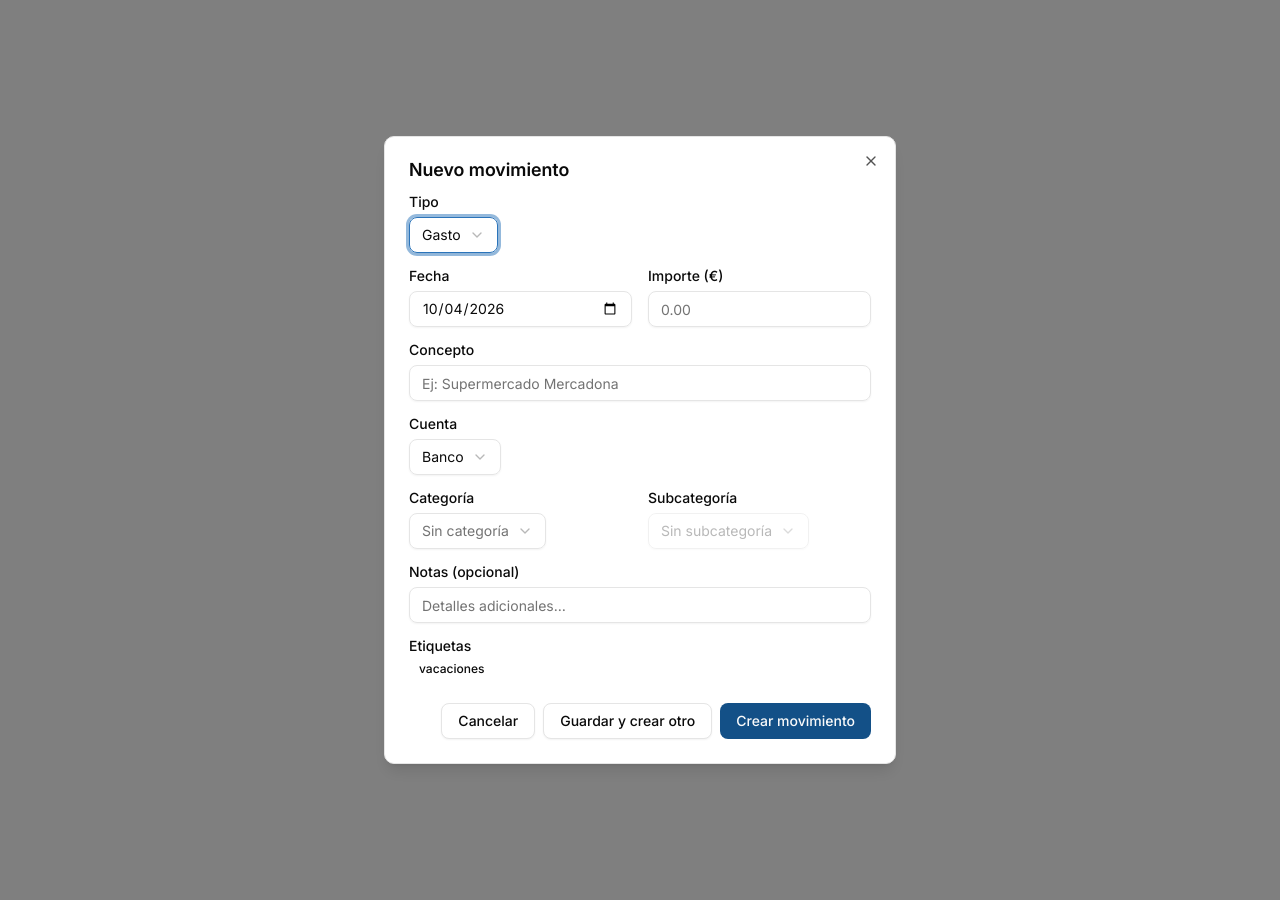
TransactionForm — transferencias › pide cuenta destino distinta al origen
This screenshot has width=1280, height=900.
Step 1. Click the dropdown named "Tipo" → {"x": 453, "y": 235}, box top-left (409, 217), bottom-right (498, 253)
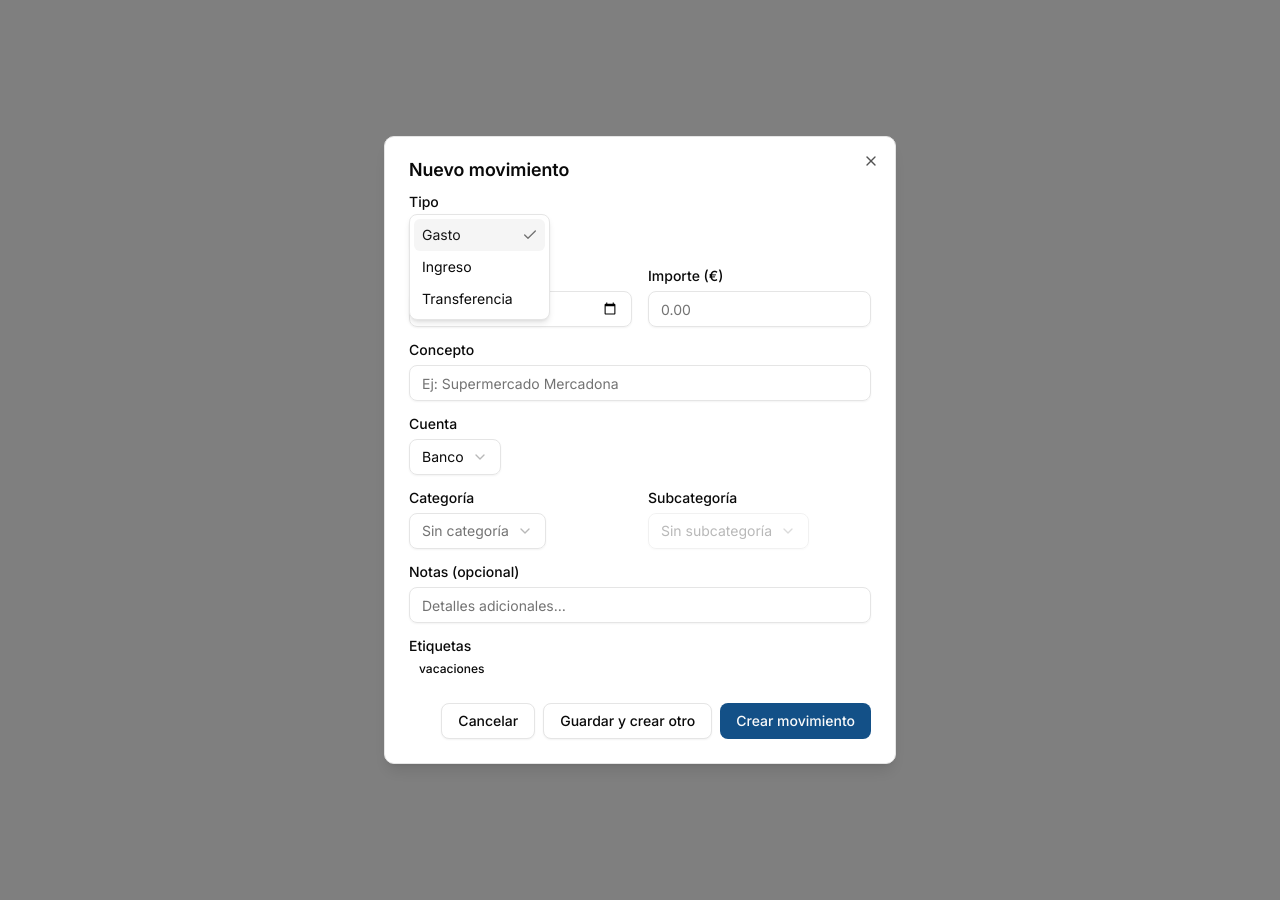
Step 2. Click the option "Transferencia" → {"x": 467, "y": 298}, box top-left (422, 290), bottom-right (513, 307)
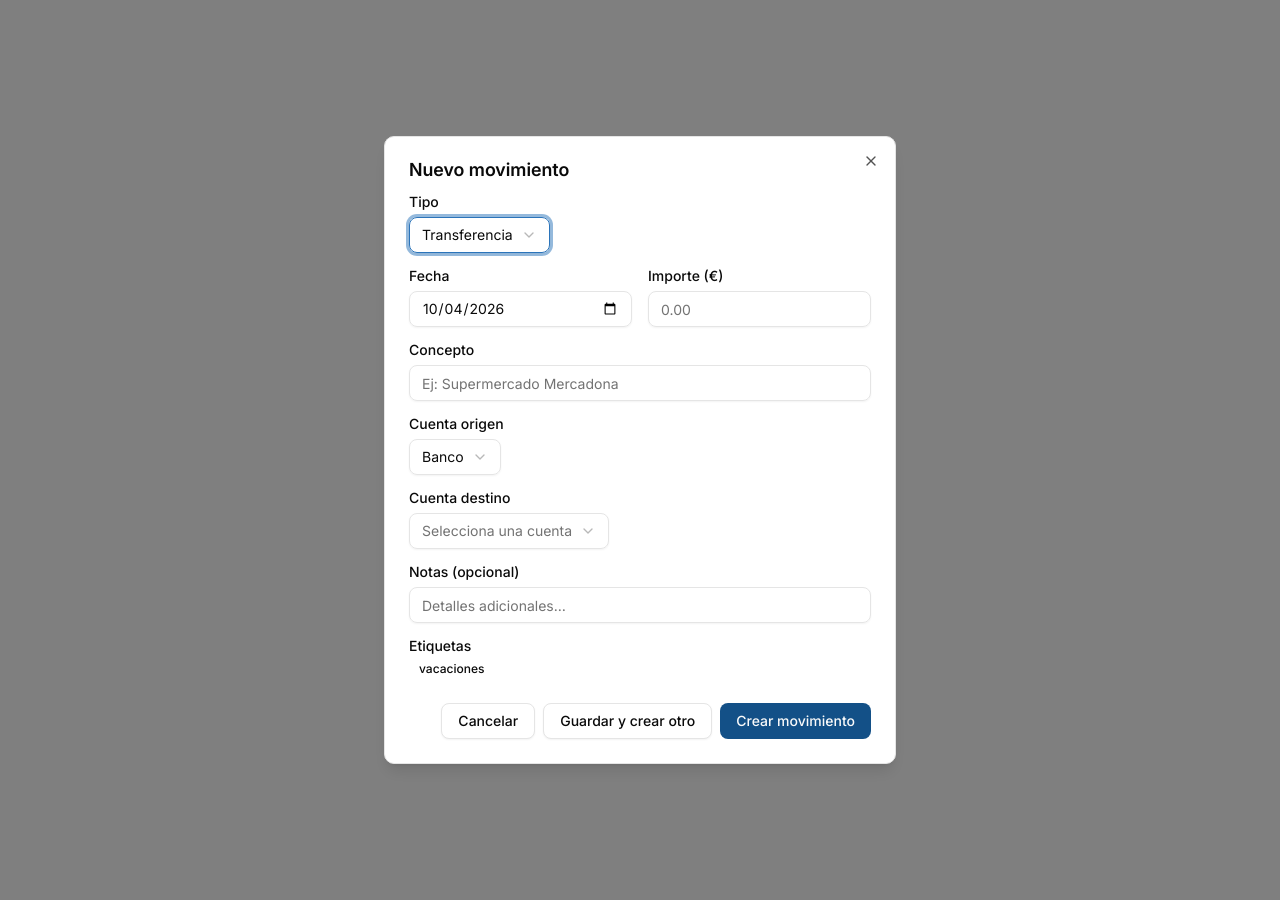
Step 3. Type "Traspaso" into the field with placeholder "Ej: Supermercado Mercadona" → {"x": 640, "y": 383}, box top-left (409, 365), bottom-right (871, 401)
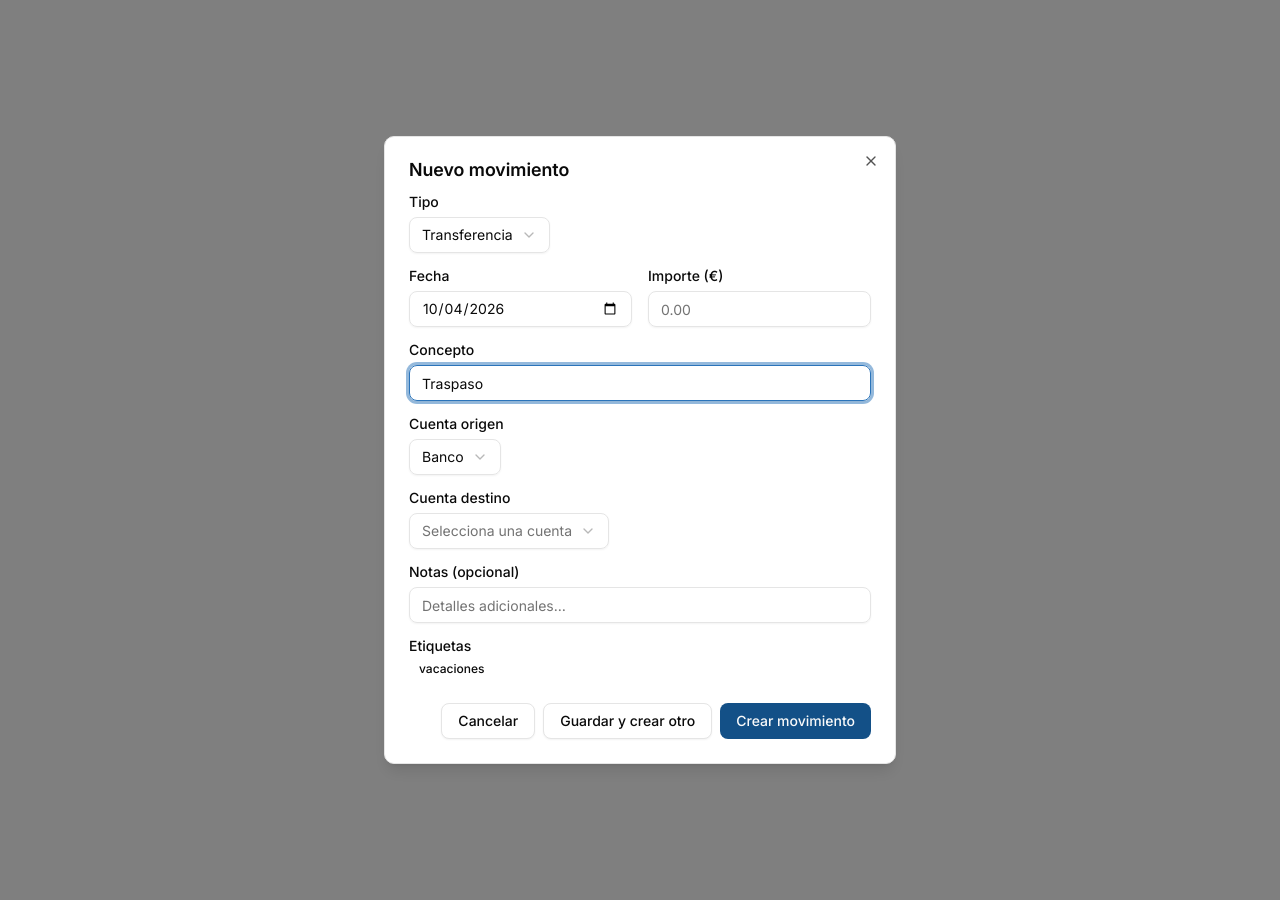
Step 4. Type "50.00" into the field with placeholder "0.00" → {"x": 760, "y": 309}, box top-left (648, 291), bottom-right (871, 327)
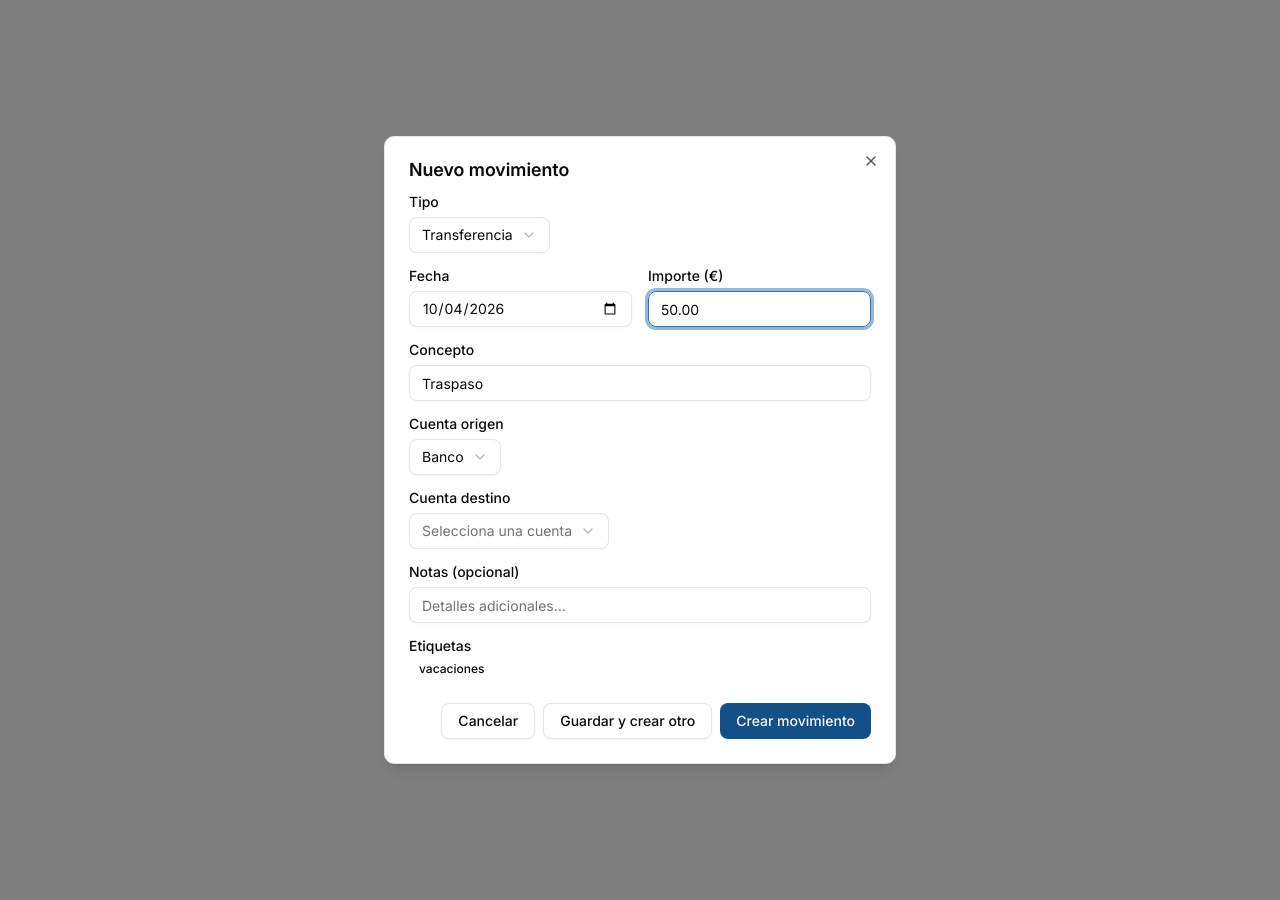
Step 5. Click the button "Crear movimiento" → {"x": 796, "y": 721}, box top-left (720, 703), bottom-right (871, 739)
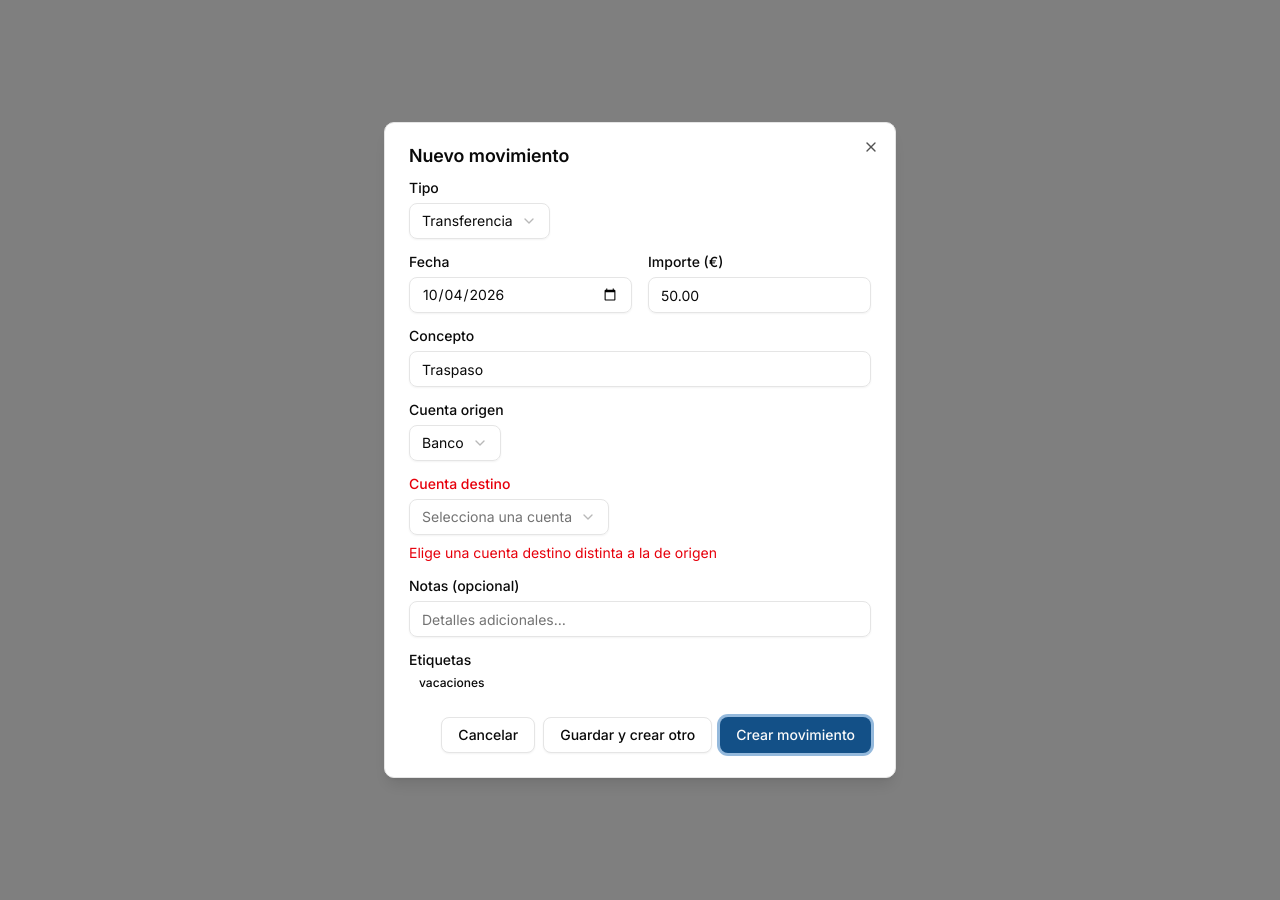
Expected: the text "Elige una cuenta destino distinta a la de origen" is shown, top-left (409, 544), bottom-right (717, 561)
